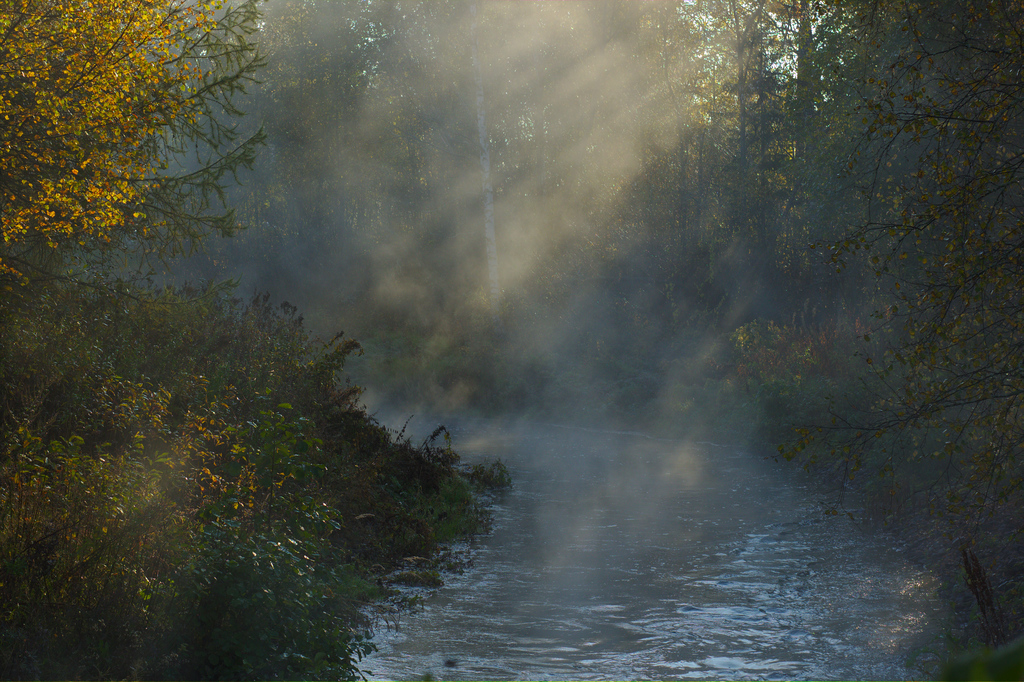Tree: (268, 0, 1023, 646), (0, 0, 268, 300)
